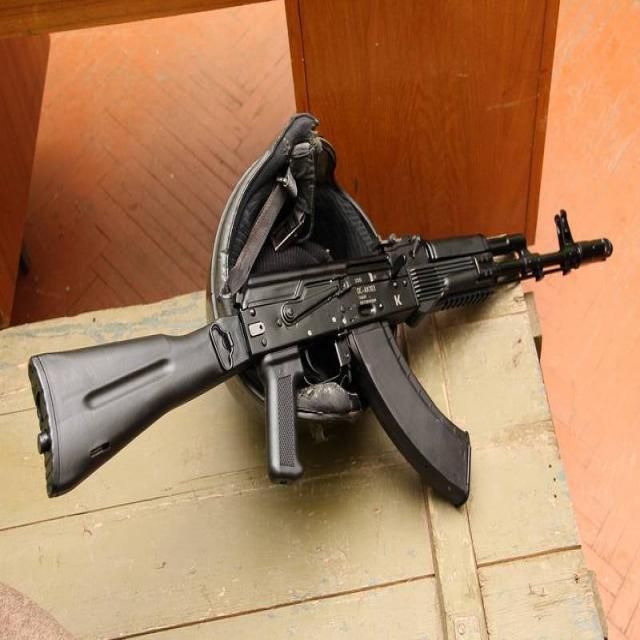weapon: (28, 210, 614, 510)
